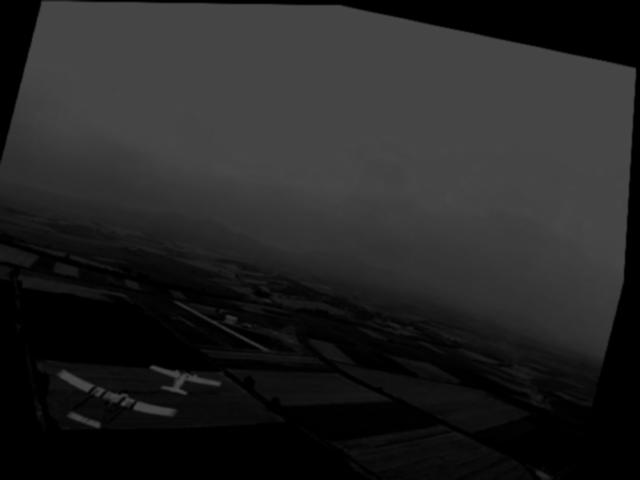hedef: (40, 369, 192, 463), (142, 351, 236, 404)
